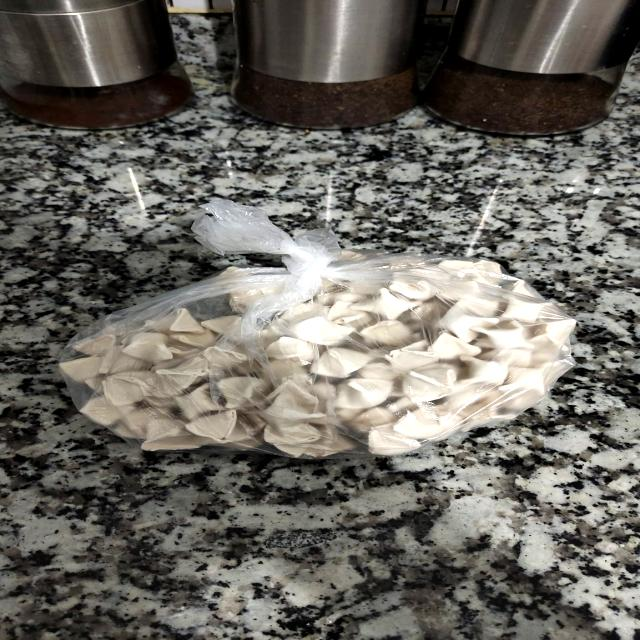turkish dumplings: (44, 237, 602, 468)
